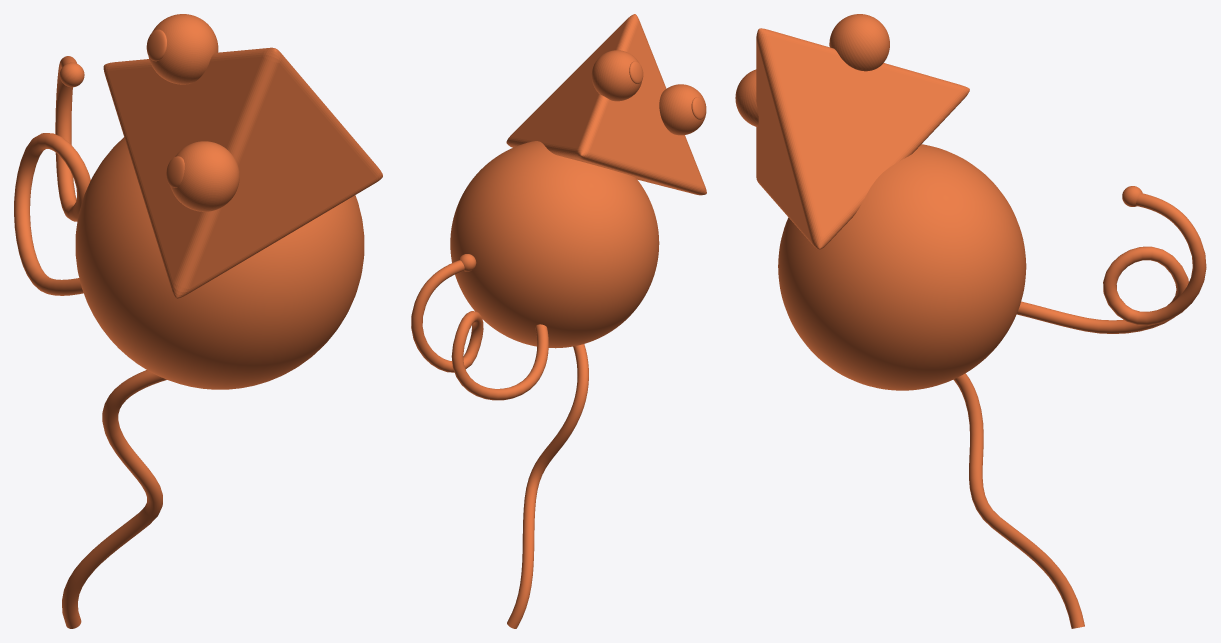
File: Squiggles2.fbx
3 views of the same model, side by side, from view 1: azimuth 30°, elevation 25°; view 2: azimuth 150°, elevation 25°; view 3: azimuth 270°, elevation 25° (orthographic). The views are drawn at different scales.
Parts seen in each view (by area): view 1: Sphere.013, Cube.001, BezierCurve.006, BezierCurve.004, Sphere.015, Sphere.014, Sphere.019; view 2: Sphere.013, Cube.001, BezierCurve.006, BezierCurve.004, Sphere.014, Sphere.015; view 3: Sphere.013, Cube.001, BezierCurve.006, BezierCurve.004, Sphere.014, Sphere.015.
Part boxes in pixels (left/top/right/bottom): Sphere.013: left=75, top=137, right=364, bottom=389; Cube.001: left=103, top=47, right=382, bottom=298; BezierCurve.006: left=14, top=56, right=90, bottom=295; BezierCurve.004: left=62, top=370, right=166, bottom=628; Sphere.015: left=170, top=141, right=239, bottom=211; Sphere.014: left=148, top=14, right=218, bottom=84; Sphere.019: left=146, top=29, right=166, bottom=61; Sphere.013: left=450, top=141, right=659, bottom=348; Cube.001: left=506, top=14, right=706, bottom=195; BezierCurve.006: left=411, top=260, right=548, bottom=400; BezierCurve.004: left=507, top=344, right=588, bottom=628; Sphere.014: left=591, top=50, right=641, bottom=101; Sphere.015: left=659, top=84, right=706, bottom=135; Sphere.013: left=778, top=144, right=1026, bottom=390; Cube.001: left=756, top=28, right=969, bottom=249; BezierCurve.006: left=1016, top=193, right=1206, bottom=333; BezierCurve.004: left=953, top=373, right=1084, bottom=628; Sphere.014: left=829, top=14, right=889, bottom=71; Sphere.015: left=735, top=69, right=758, bottom=126.
Size of the model in its own units: 678 by 1817 by 1275.
